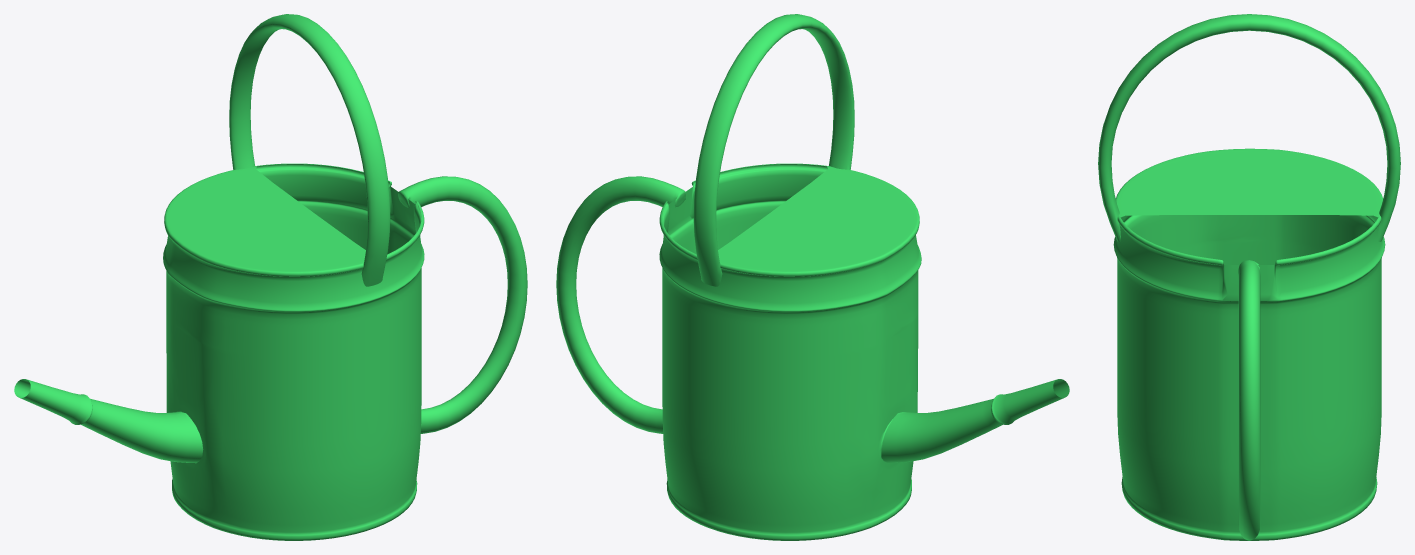
File: Annaffiatoio.fbx
The picture shows the model from 3 angles, left to right: view 1: azimuth 30°, elevation 25°; view 2: azimuth 150°, elevation 25°; view 3: azimuth 270°, elevation 25°; orthographic projection. The views are drawn at different scales.
Parts seen in each view (by area): view 1: part 2; view 2: part 2; view 3: part 2.
Boxes of the visible parts, <box> form: part 2: <box>14,14,527,540</box>; part 2: <box>556,14,1069,540</box>; part 2: <box>1098,14,1400,540</box>.
Bounding box in the file's own units: 29.84 × 25.89 × 14.79.
